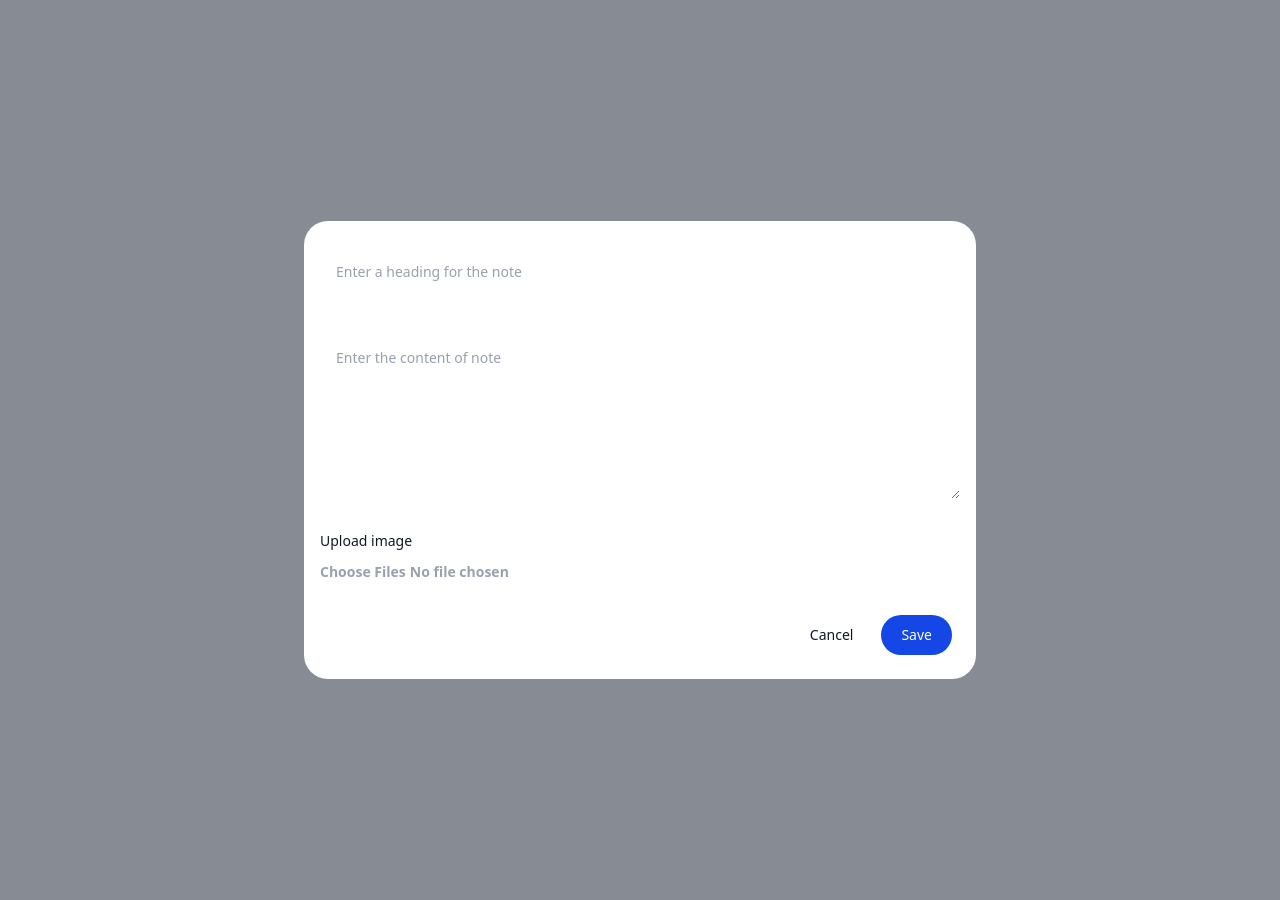
Test: NoteTakingModal component › should handle error messages when an error occurs during save
Click the button "Save". click: (917, 635)
box: [881,615,952,655]
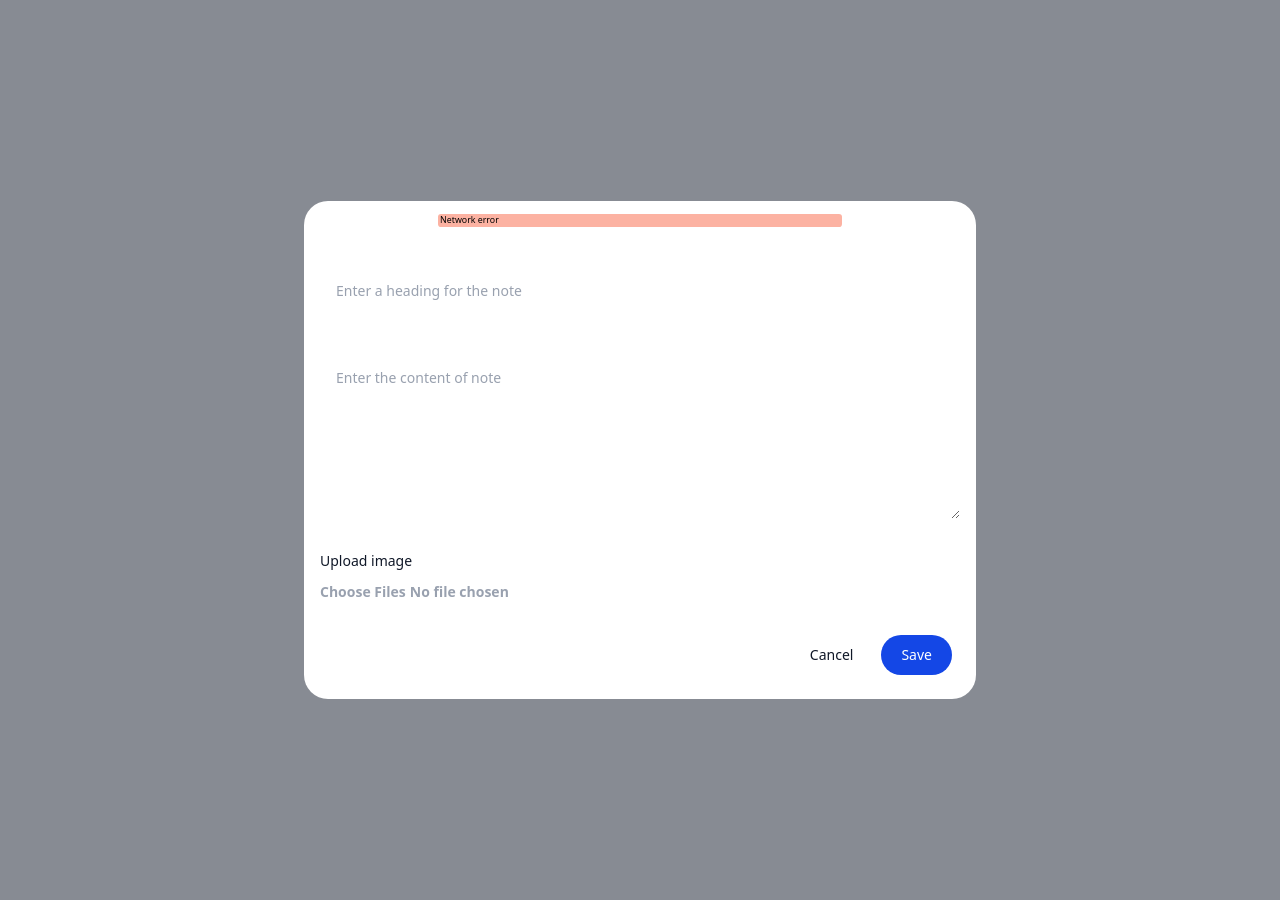
Check: the text "Network error" is shown, box [438,214,842,227]
